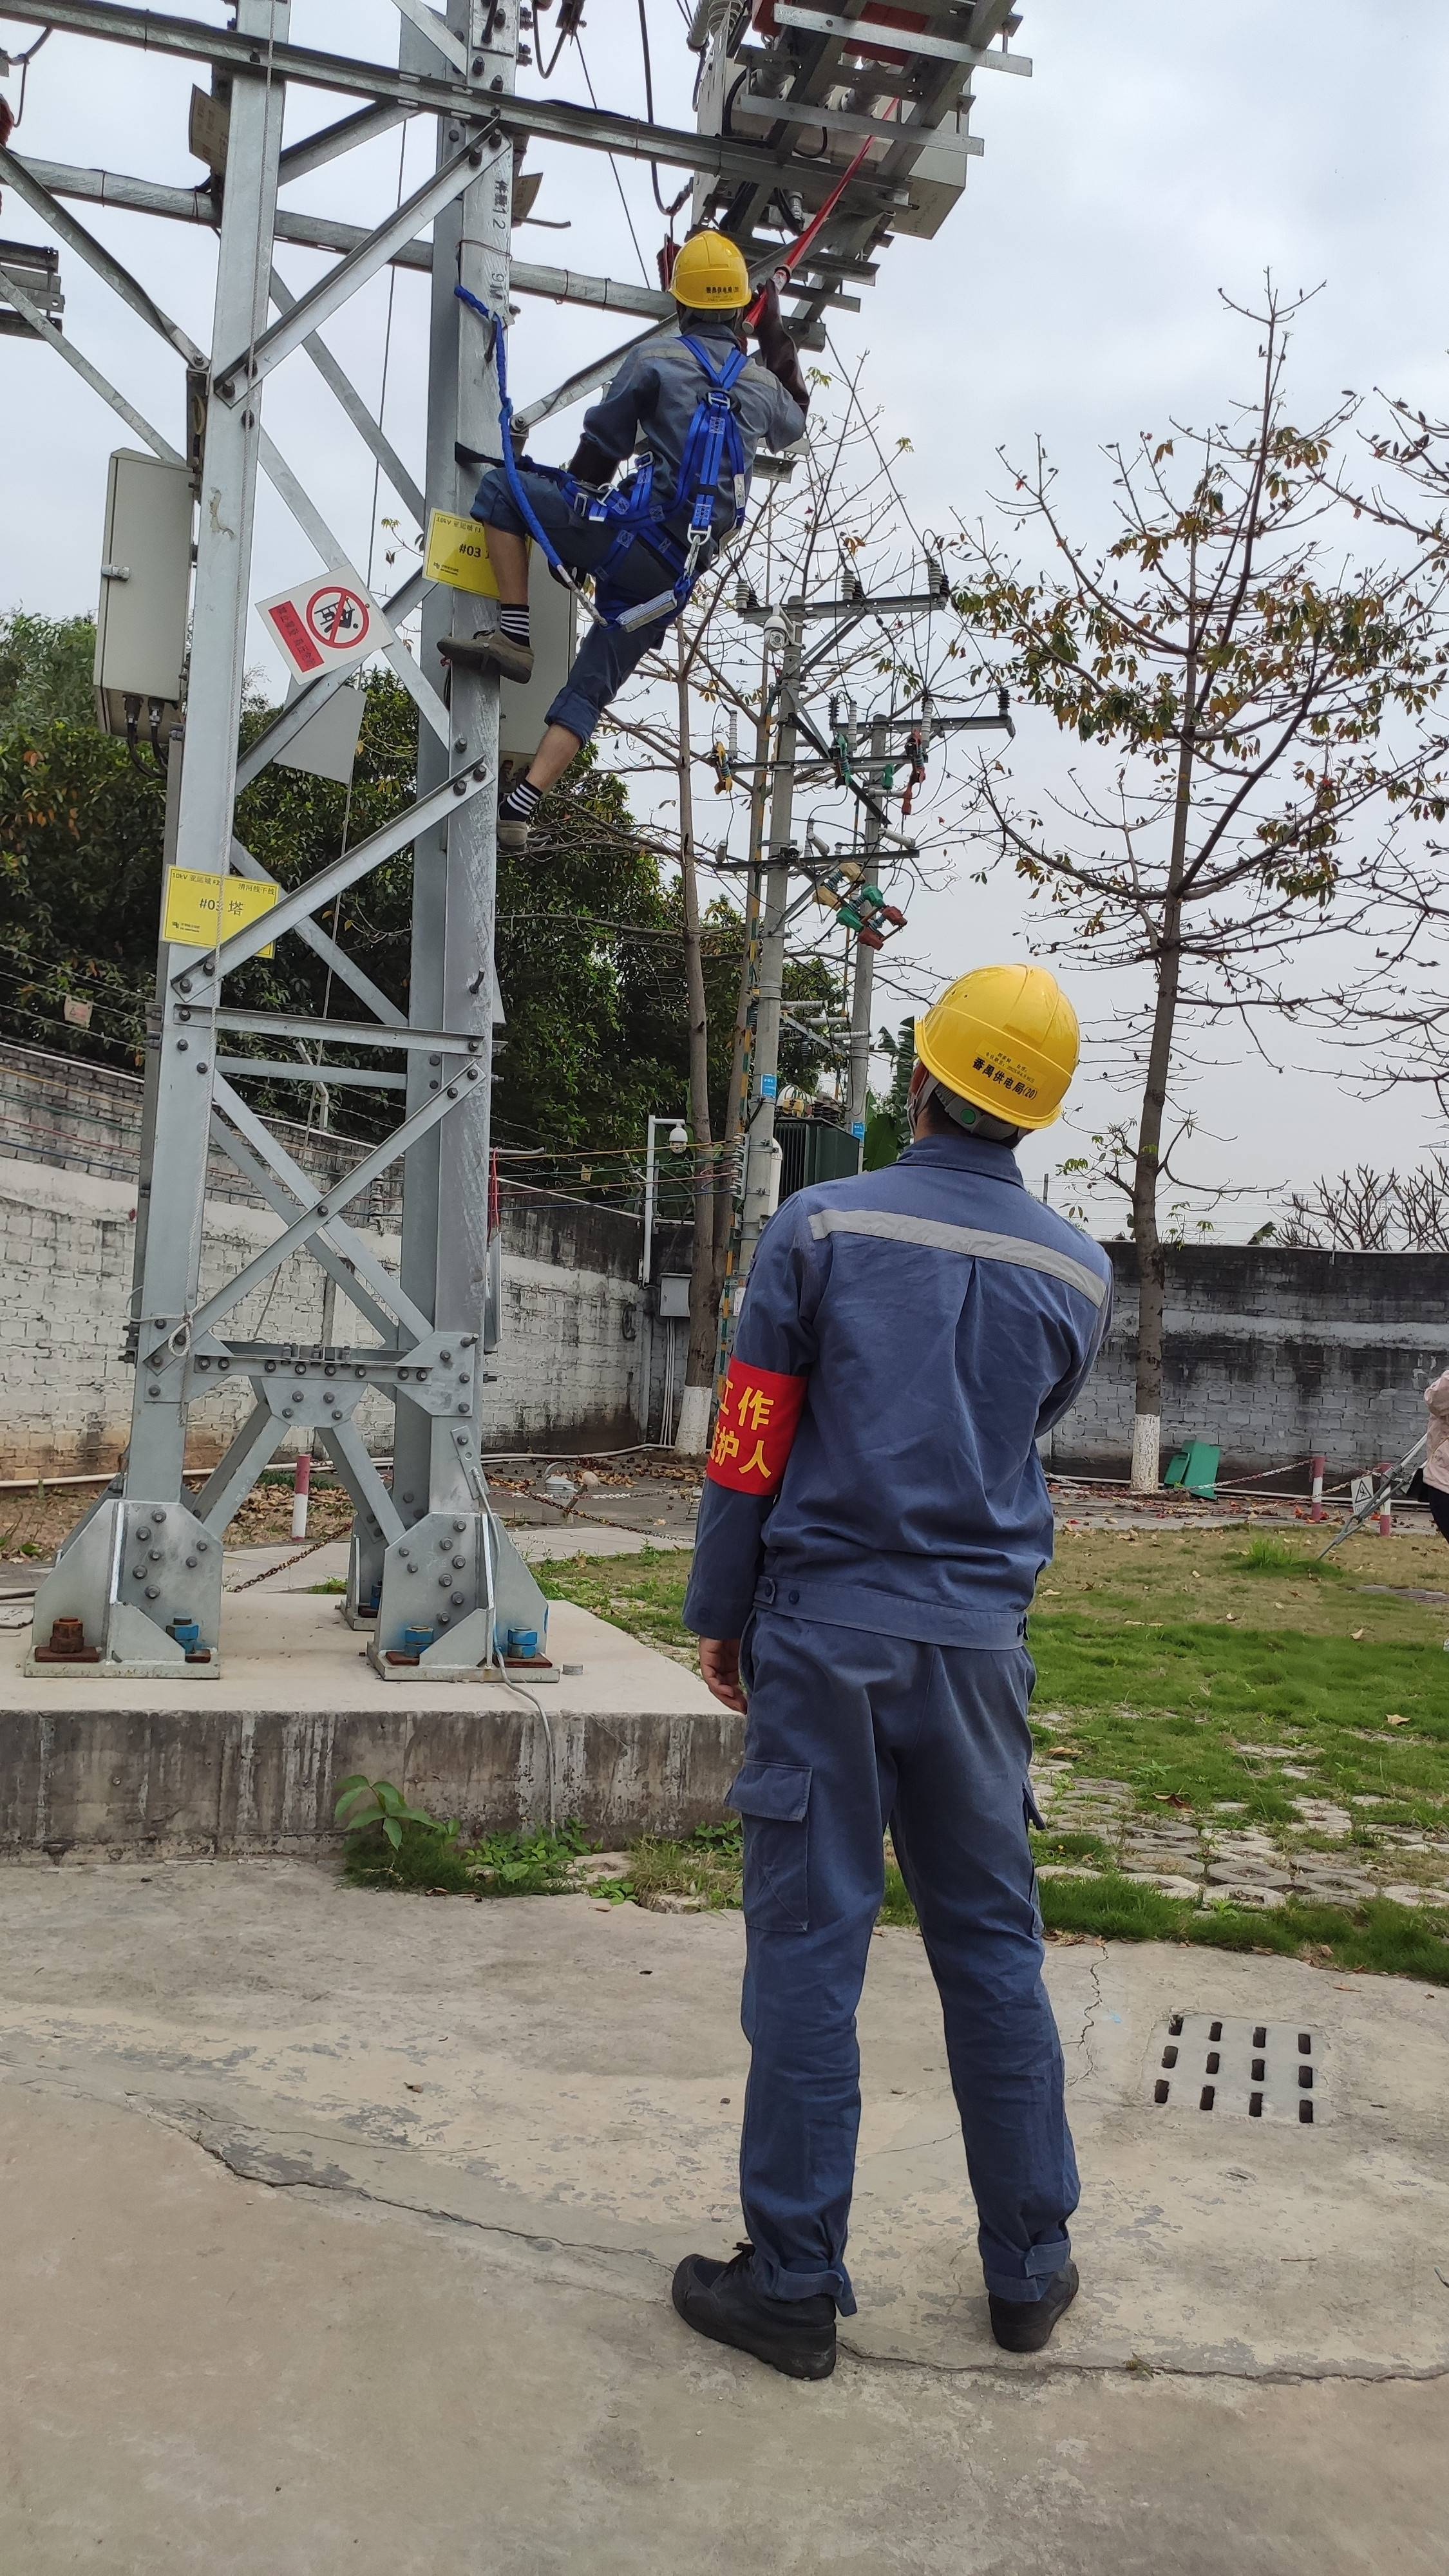downsuit: (713, 1667, 1095, 2304), (527, 515, 694, 745)
upsuit: (685, 1143, 1120, 1638), (582, 331, 805, 518)
wrongbottom: (471, 497, 538, 630), (524, 690, 602, 798)
